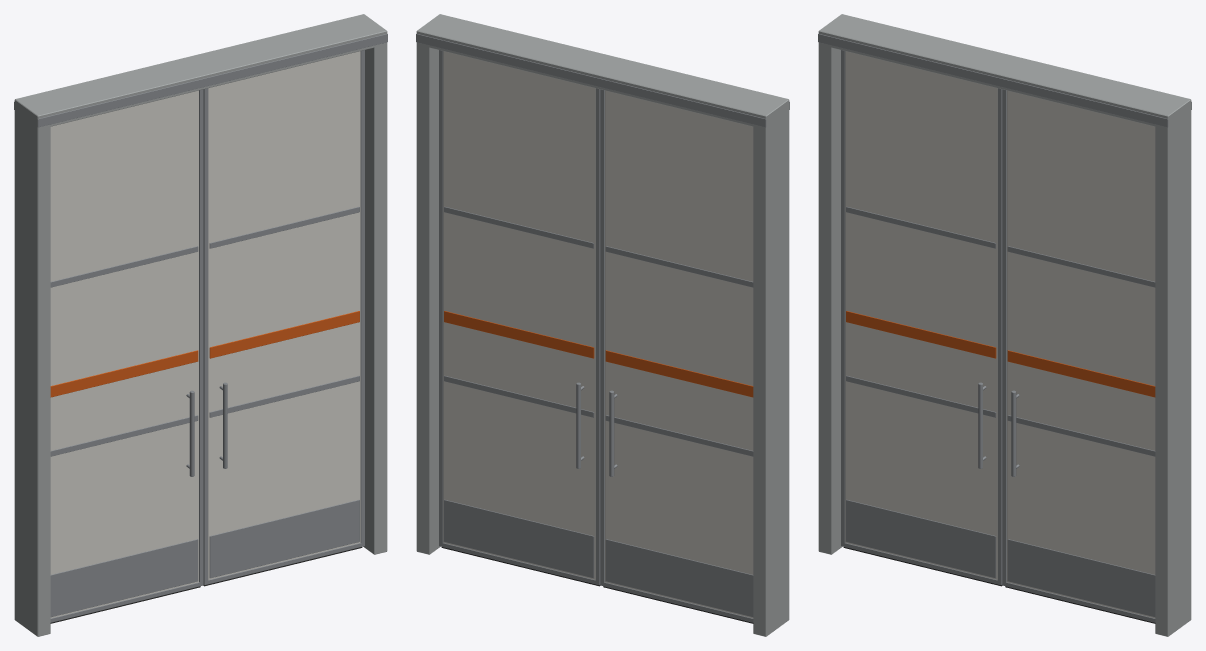
Rendered from prop_door_slide_coldstore_w240_h360.glb.
3 views of the same model, side by side, from view 1: azimuth 30°, elevation 25°; view 2: azimuth 150°, elevation 25°; view 3: azimuth 330°, elevation 25° (orthographic).
Visible parts, largest first — view 1: LeafMesh2, LeafMesh, Frame; view 2: LeafMesh2, LeafMesh, Frame; view 3: LeafMesh, LeafMesh2, Frame.
Boxes of the visible parts, left/top/right/bottom form: LeafMesh2: left=203, top=50, right=364, bottom=586; LeafMesh: left=50, top=89, right=203, bottom=623; Frame: left=14, top=14, right=387, bottom=636; LeafMesh2: left=439, top=50, right=600, bottom=586; LeafMesh: left=600, top=89, right=753, bottom=623; Frame: left=416, top=14, right=789, bottom=636; LeafMesh: left=841, top=50, right=1002, bottom=586; LeafMesh2: left=1002, top=89, right=1155, bottom=623; Frame: left=818, top=14, right=1191, bottom=636.
Size of what is drawn, in the model's own units: 2.6 by 3.7 by 0.31.
